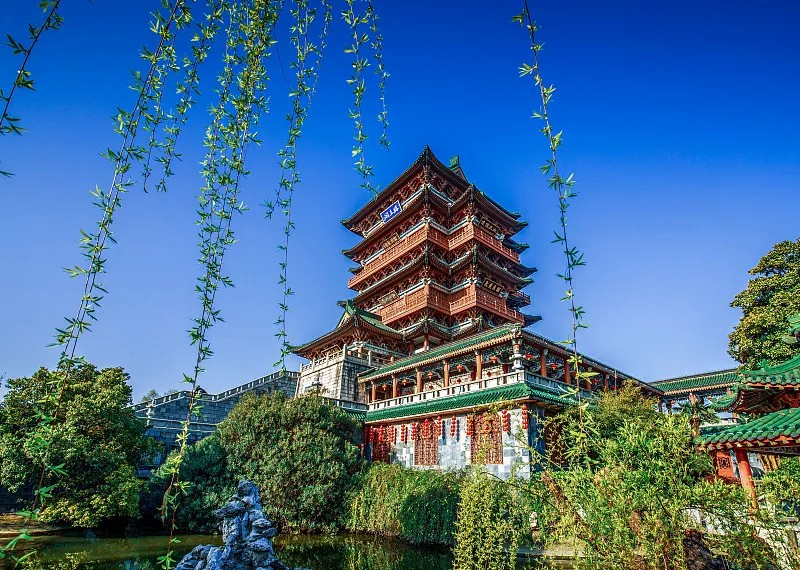Teng: (289, 149, 543, 370)
